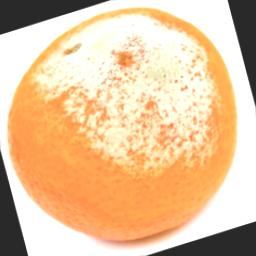Orange Rotten: (0, 1, 256, 256)
